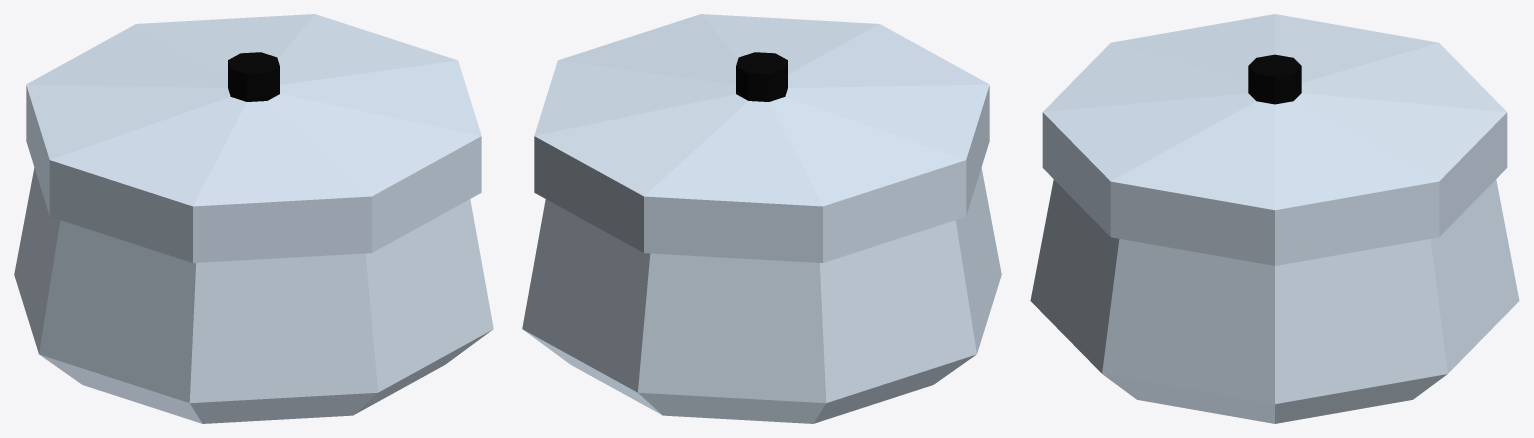
The model's file is Pot.fbx.
3 renders of one model, left to right at view 1: azimuth 30°, elevation 25°; view 2: azimuth 150°, elevation 25°; view 3: azimuth 270°, elevation 25°, orthographic.
Visible parts, largest first — view 1: Pot; view 2: Pot; view 3: Pot.
Part boxes in pixels (bbox=[...]): Pot: bbox=[14, 14, 493, 423]; Pot: bbox=[522, 14, 1001, 423]; Pot: bbox=[1030, 14, 1519, 423].
Bounding box in the file's own units: 128 × 128 × 79.48.
